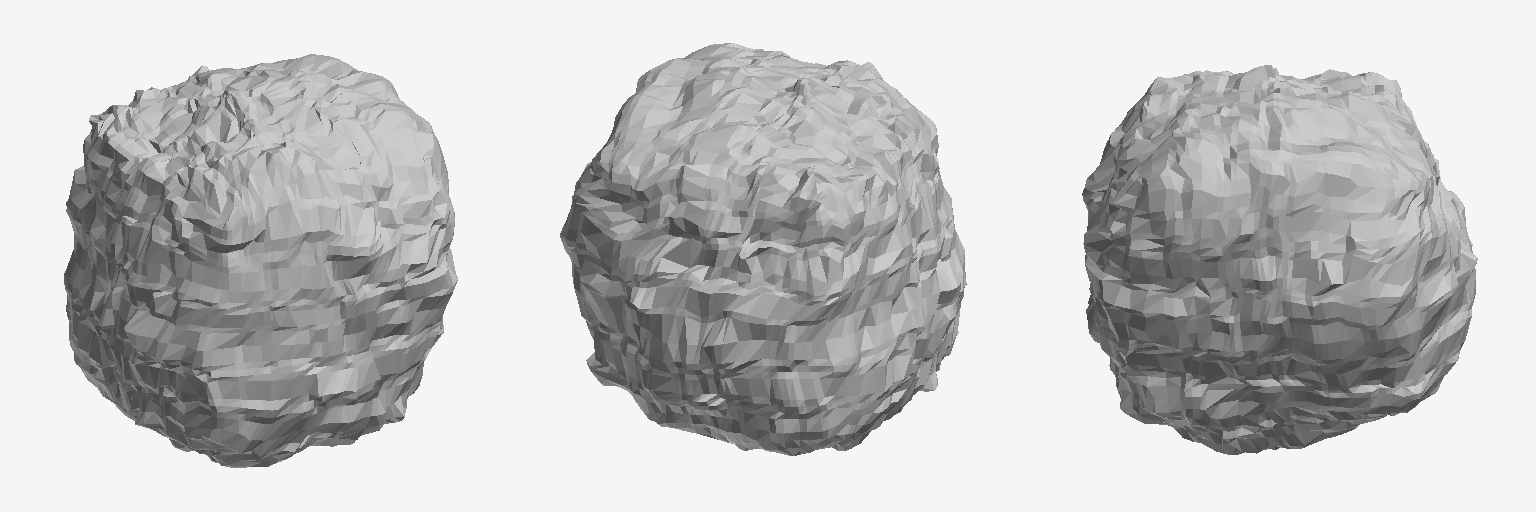
File: stoneBIG.obj
3 renders of one model, left to right at view 1: azimuth 30°, elevation 25°; view 2: azimuth 150°, elevation 25°; view 3: azimuth 270°, elevation 25°, orthographic.
Parts seen in each view (by area): view 1: pCube3; view 2: pCube3; view 3: pCube3.
Part boxes in pixels (left/top/right/bottom): pCube3: left=64, top=54, right=457, bottom=467; pCube3: left=560, top=43, right=966, bottom=455; pCube3: left=1082, top=65, right=1477, bottom=454.
Size of the model in its own units: 133 by 140 by 142.